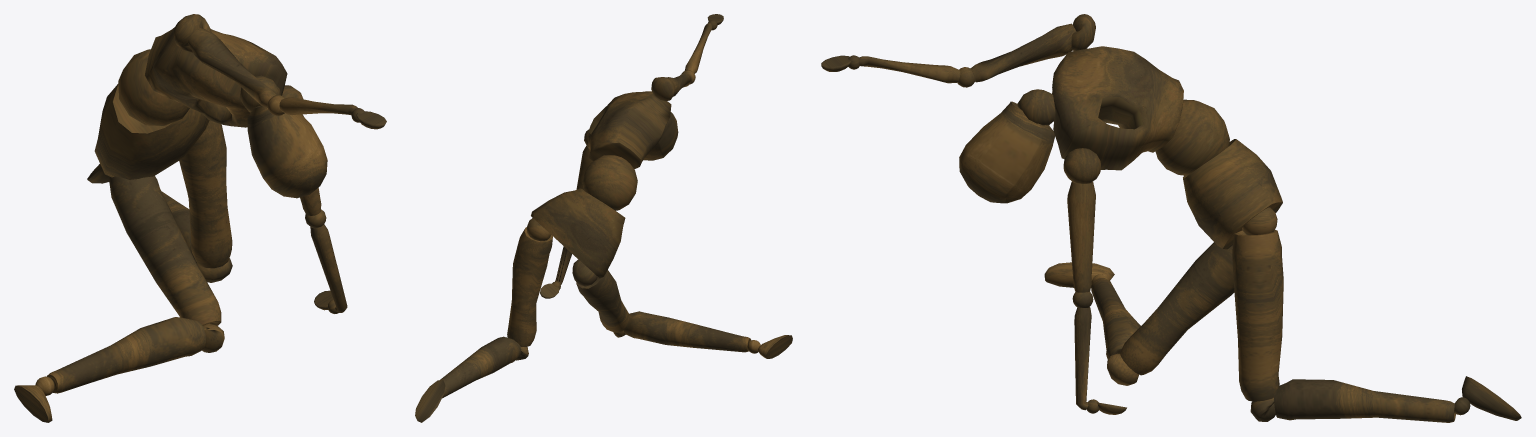
The model's file is maniqui_pose8.fbx.
The picture shows the model from 3 angles, left to right: view 1: azimuth 30°, elevation 25°; view 2: azimuth 150°, elevation 25°; view 3: azimuth 270°, elevation 25°; orthographic projection. The views are drawn at different scales.
Parts seen in each view (by area): view 1: dummy_obj.003; view 2: dummy_obj.003; view 3: dummy_obj.003.
Part boxes in pixels (x1,y1,x2,y2): dummy_obj.003: [14, 14, 386, 422]; dummy_obj.003: [415, 14, 792, 422]; dummy_obj.003: [821, 14, 1521, 422].
Bounding box in the file's own units: 76.57 × 82.16 × 149.
